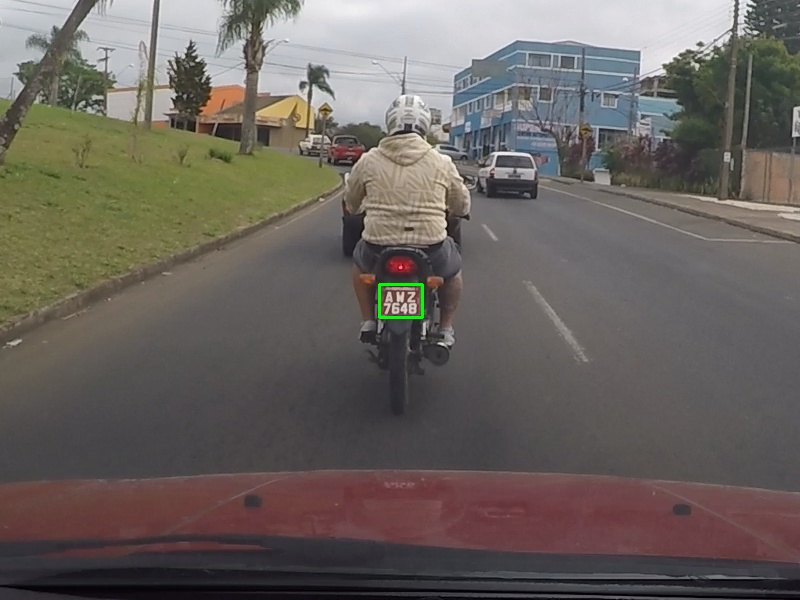placa: (379, 284, 422, 317)
